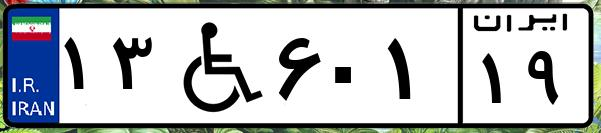0: (330, 28, 385, 110)
1: (385, 28, 445, 110), (57, 26, 110, 100), (475, 38, 525, 113)
3: (110, 28, 158, 98)
6: (270, 28, 330, 110)
9: (525, 38, 570, 115)
ژ (معلولین و جانبازان): (158, 12, 270, 120)
